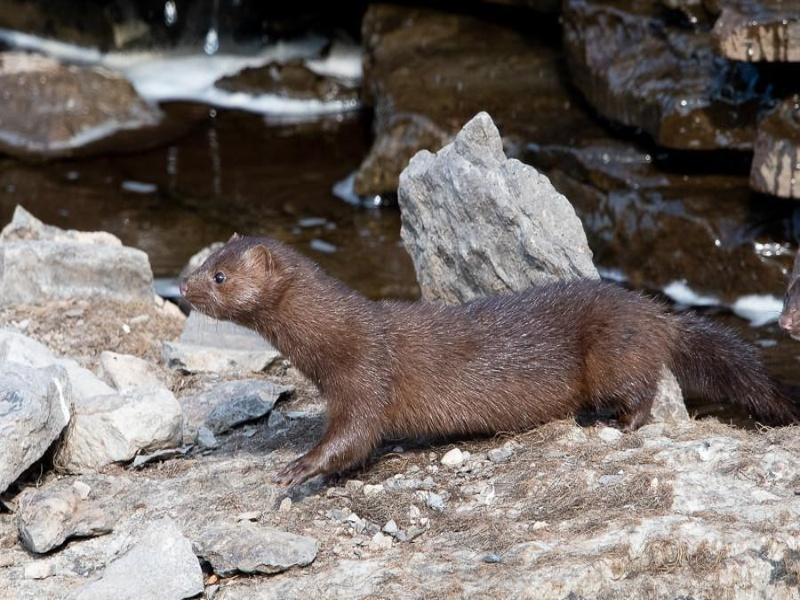minkish: (183, 228, 779, 496)
